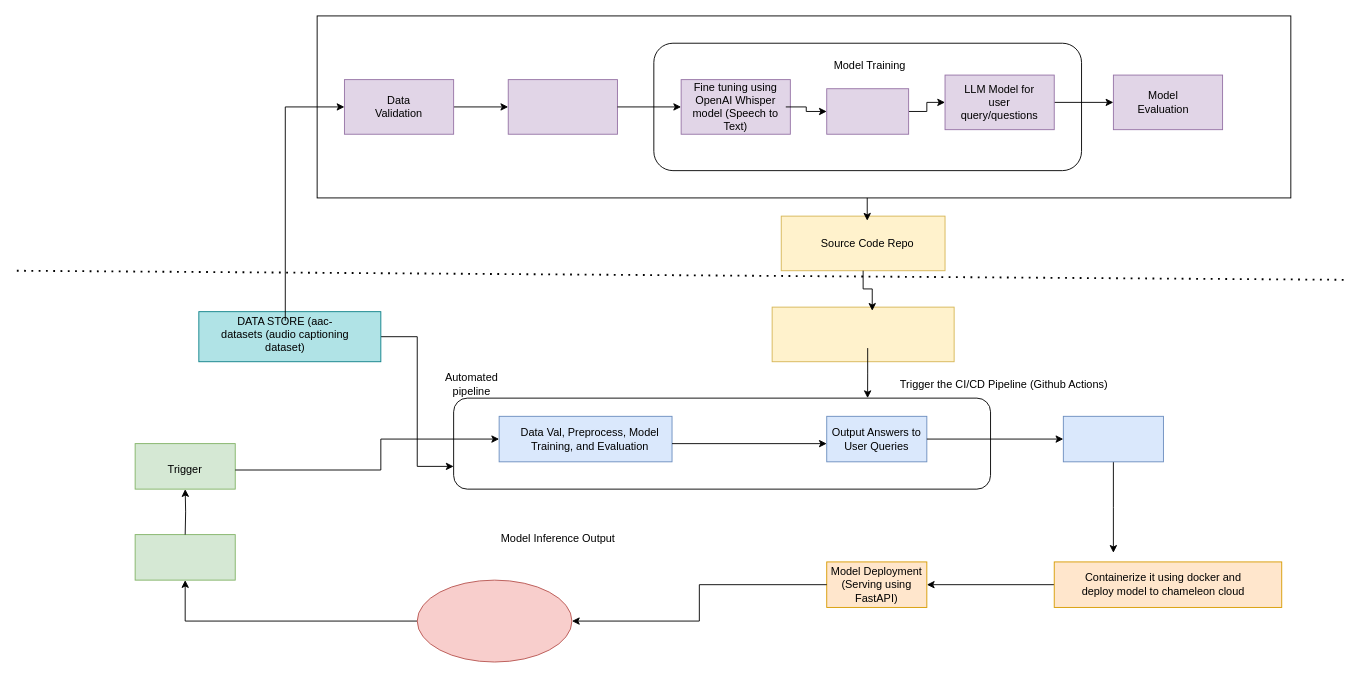
This 1362x678 diagram has some shape labels left out. Here are the shapes that lost their labels. From the top down, the box of each, then its label:
(507, 79, 617, 134): Preprocessing (Whisper only uses small chunks of audio etc)
(826, 88, 909, 134): Transcript of Audio Generated
(771, 306, 954, 362): Pipeline Deploy
(1062, 415, 1163, 462): Model Store
(134, 534, 235, 580): Monitoring
(416, 579, 572, 662): END USER (inputs an audio file and questions for ChatBot)
